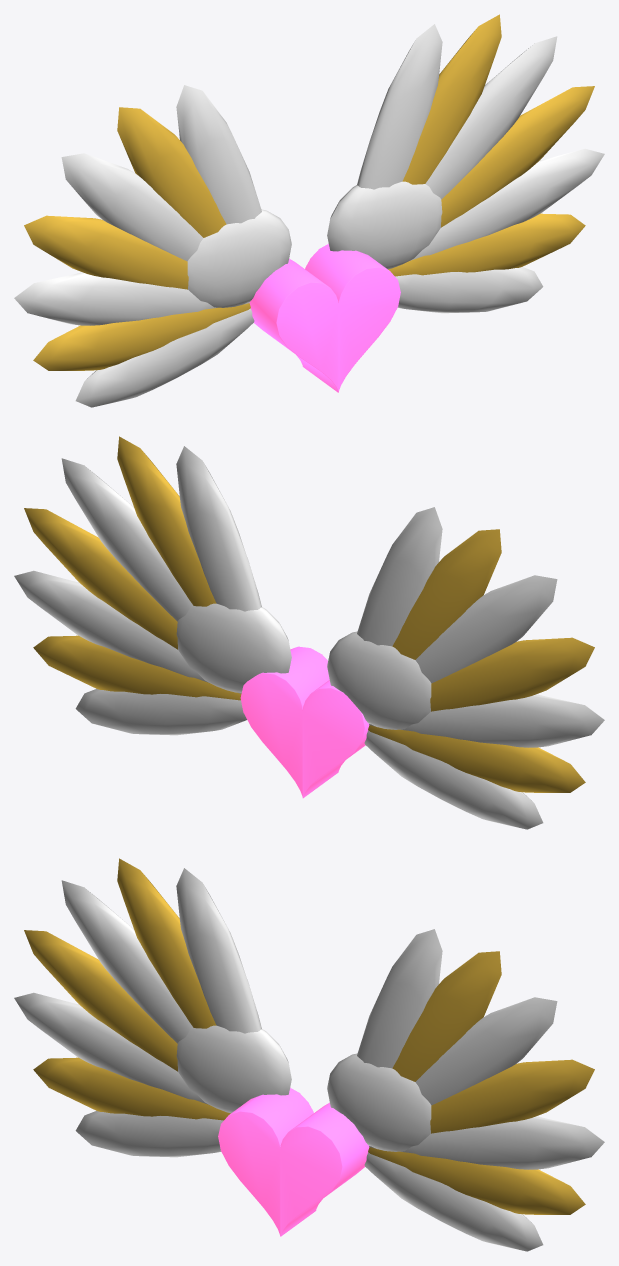
Rendered from hs_powerup_wings.glb.
3 renders of one model, top to bottom at view 1: azimuth 30°, elevation 25°; view 2: azimuth 150°, elevation 25°; view 3: azimuth 330°, elevation 25°, orthographic.
Visible parts, largest first — view 1: hs_powerup_wings; view 2: hs_powerup_wings; view 3: hs_powerup_wings.
Boxes of the visible parts, x1,y1,x2,y2 form: hs_powerup_wings: (14, 14, 604, 407); hs_powerup_wings: (14, 436, 604, 829); hs_powerup_wings: (14, 858, 604, 1251).
Size of the model in its own units: 1.52 by 0.7784 by 0.1723.
